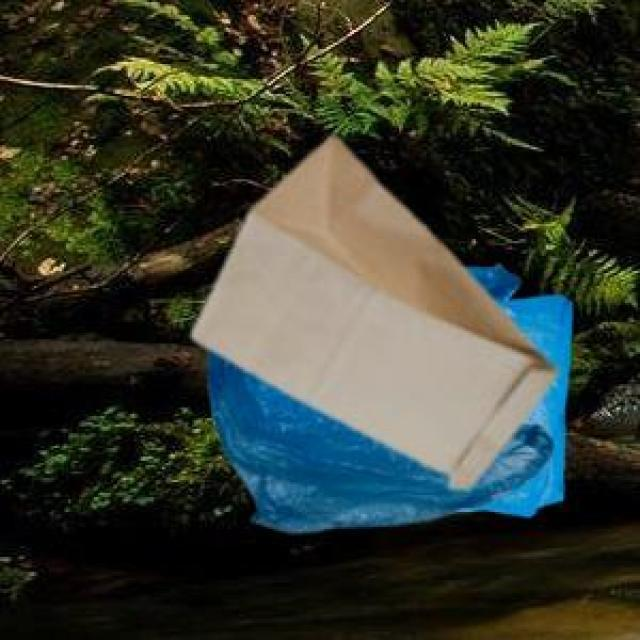paper: (188, 132, 553, 484)
